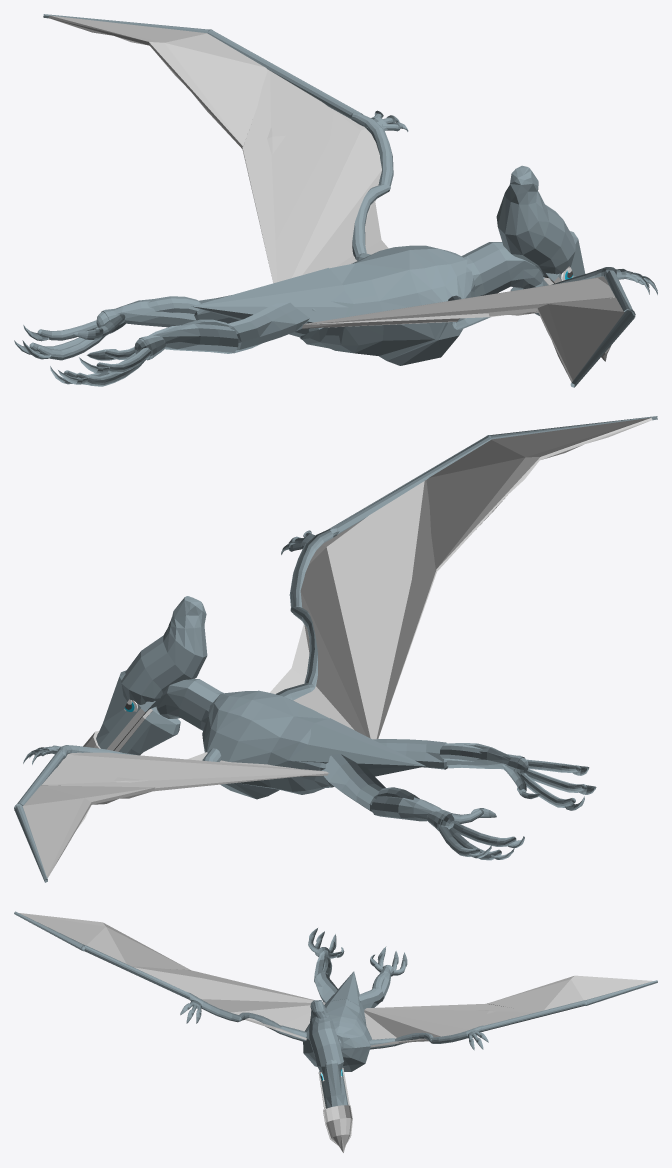
Rendered from pterodactyl.glb.
3 renders of one model, top to bottom at view 1: azimuth 30°, elevation 25°; view 2: azimuth 150°, elevation 25°; view 3: azimuth 270°, elevation 25°, orthographic. The views are drawn at different scales.
Visible parts, largest first — view 1: wingLeft, torso, wingRight, head, legLeft, legRight; view 2: wingRight, wingLeft, torso, head, legRight, legLeft; view 3: wingRight, wingLeft, head, torso, legLeft, legRight.
Boxes of the visible parts, box(x1,y1,x2,y2) form: wingLeft: box(43, 14, 408, 283); torso: box(191, 245, 474, 365); wingRight: box(302, 267, 657, 387); head: box(461, 165, 611, 361); legLeft: box(50, 302, 309, 386); legRight: box(14, 295, 239, 360); wingRight: box(270, 416, 657, 739); wingLeft: box(14, 745, 329, 882); torso: box(202, 690, 425, 799); head: box(83, 596, 223, 755); legRight: box(321, 754, 524, 860); legLeft: box(373, 739, 596, 810); wingRight: box(14, 911, 325, 1041); wingLeft: box(364, 975, 657, 1050); head: box(309, 1000, 352, 1152); torso: box(303, 971, 372, 1071); legLeft: box(308, 928, 344, 1003); legRight: box(358, 946, 407, 1009).
Bounding box in the file's own units: 2.82 × 1.38 × 5.22.
